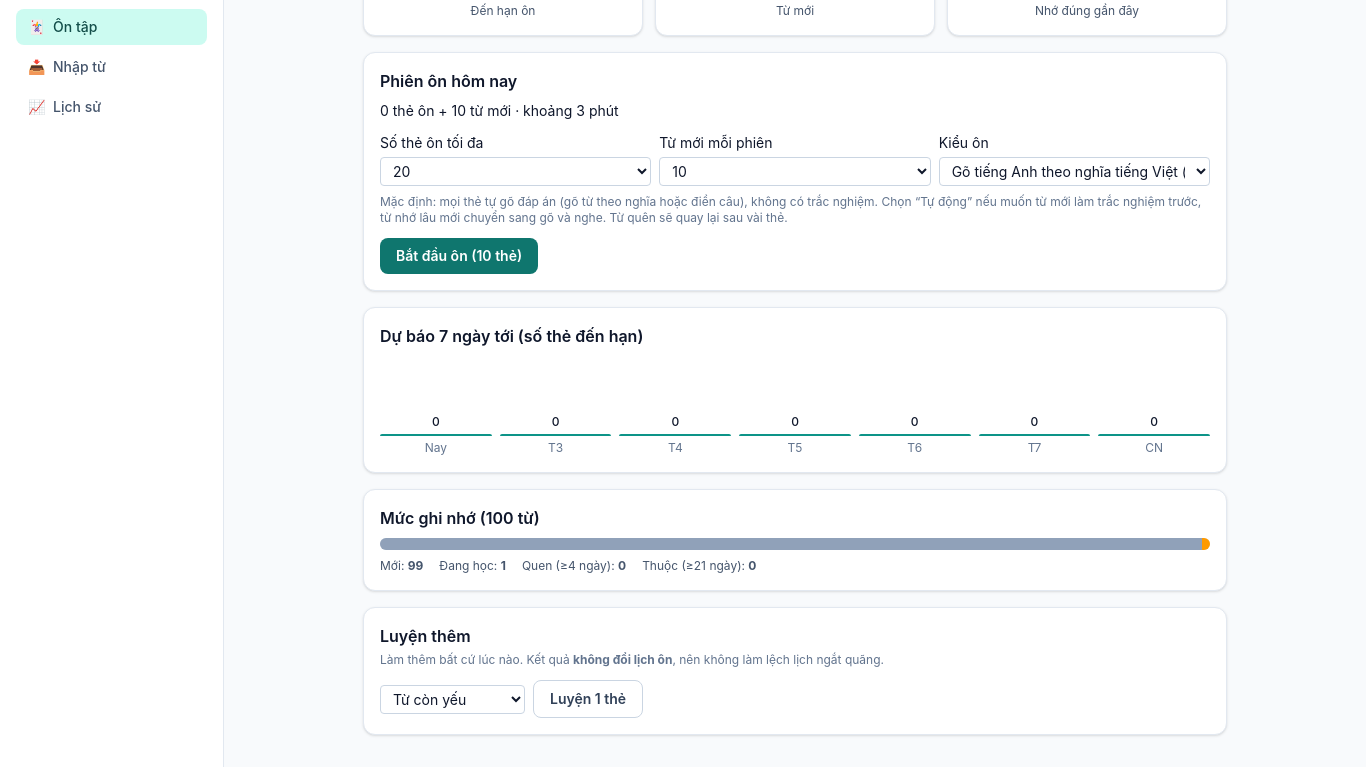
Test: Ôn tập: luyện thêm › không đổi lịch ôn dù trả lời sai
(page scrolled)
Click the button "Luyện 1 thẻ".
click(588, 699)  # box [533,680,643,718]
(page scrolled)
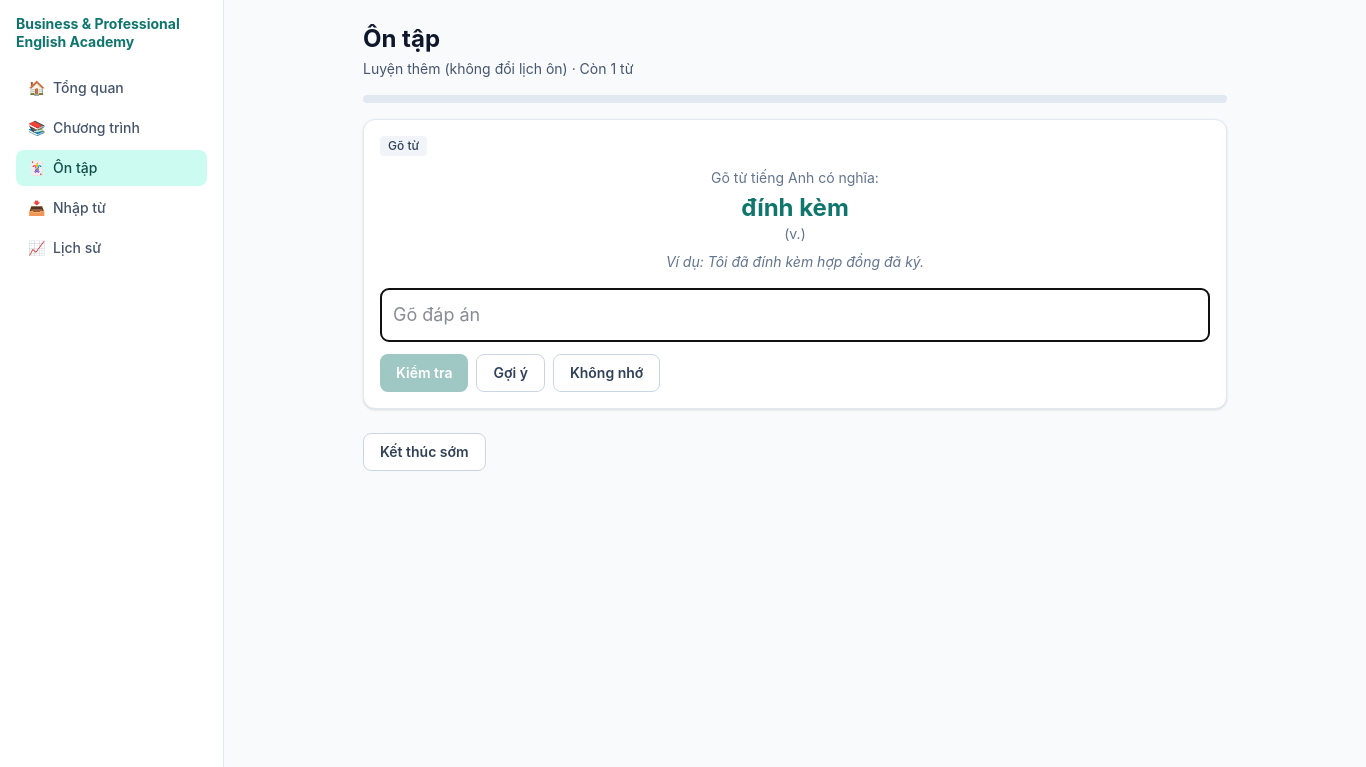
Result: the text "Luyện thêm (không đổi lịch ôn) · Còn 1 từ" is shown at [363,60,633,77]
Click the button "Không nhớ".
click(607, 373)  # box [553,354,660,392]
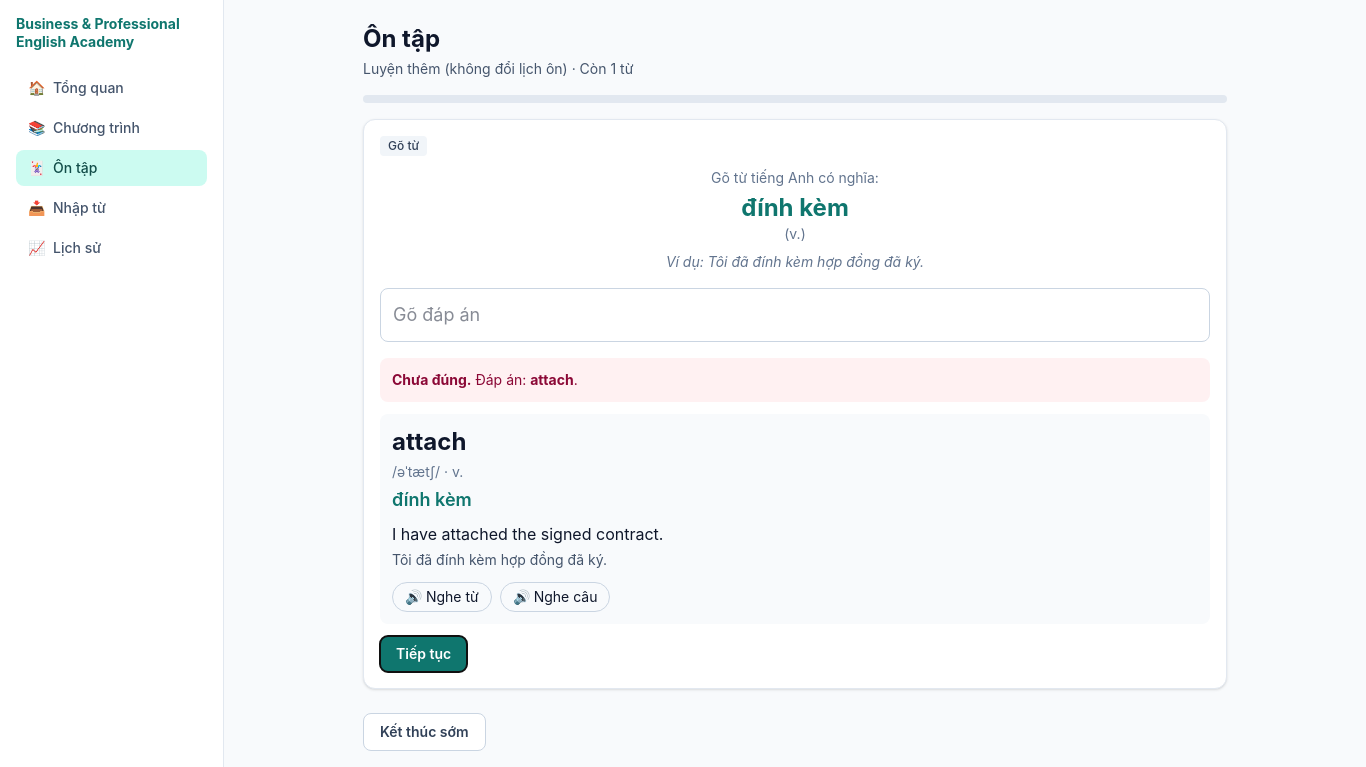
Click the button "Tiếp tục".
click(424, 654)  # box [380,636,467,672]
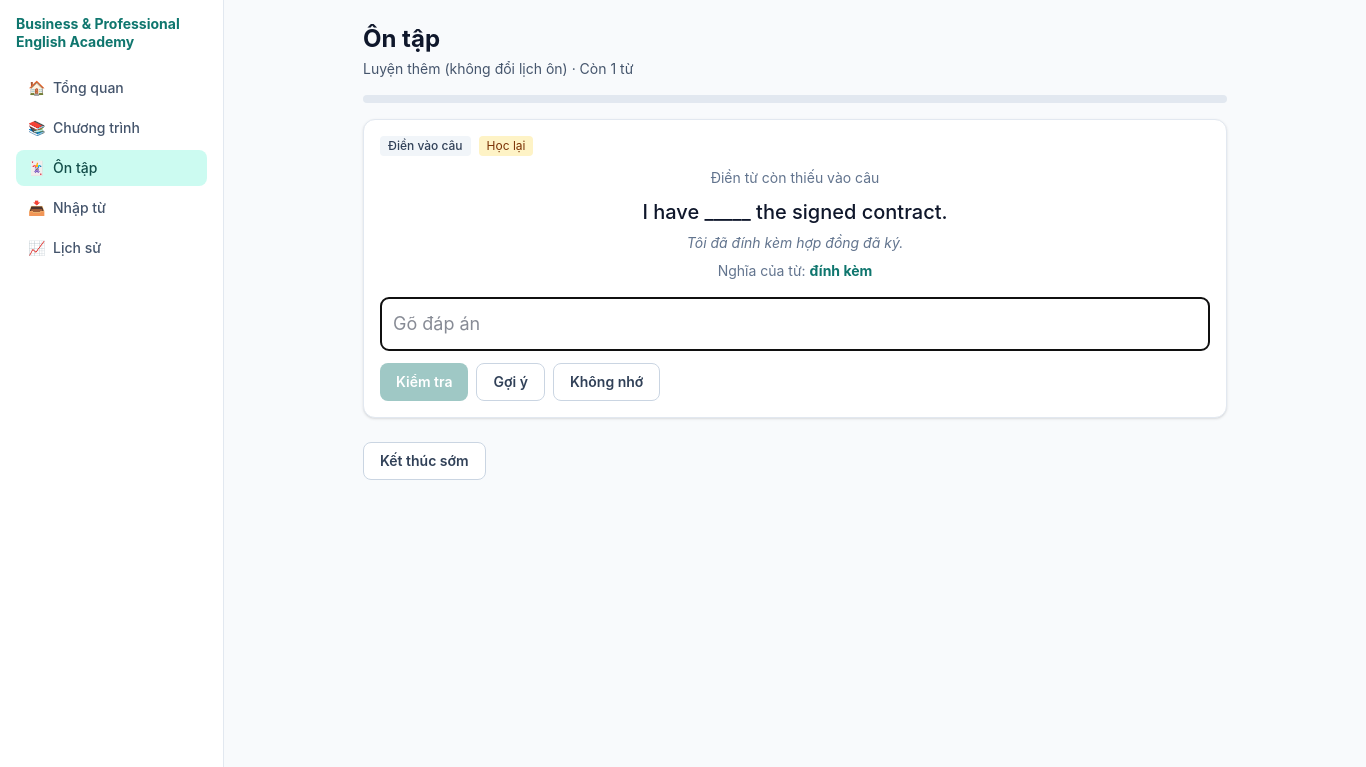
Click the button "Kết thúc sớm".
click(424, 460)  # box [363,442,486,480]
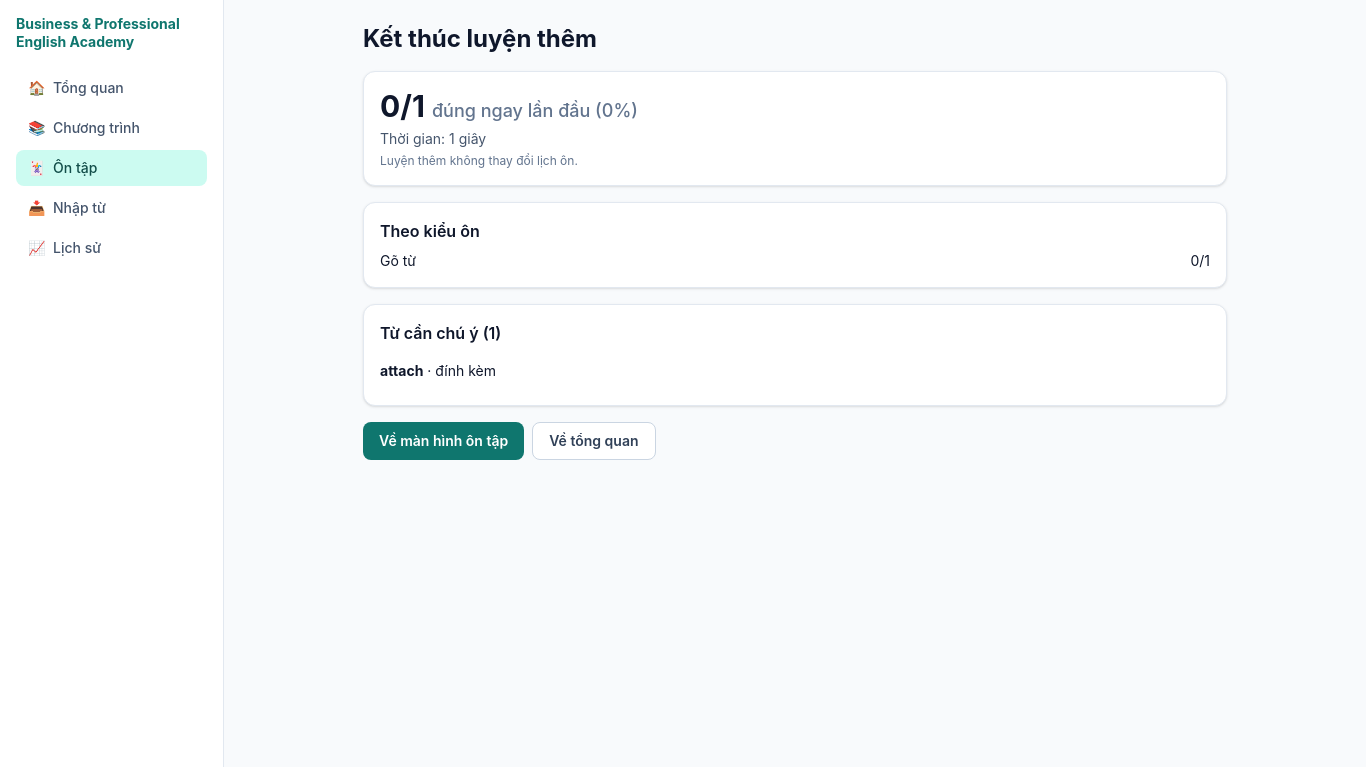
Result: the heading "Kết thúc luyện thêm" is shown at [363,24,597,53]
